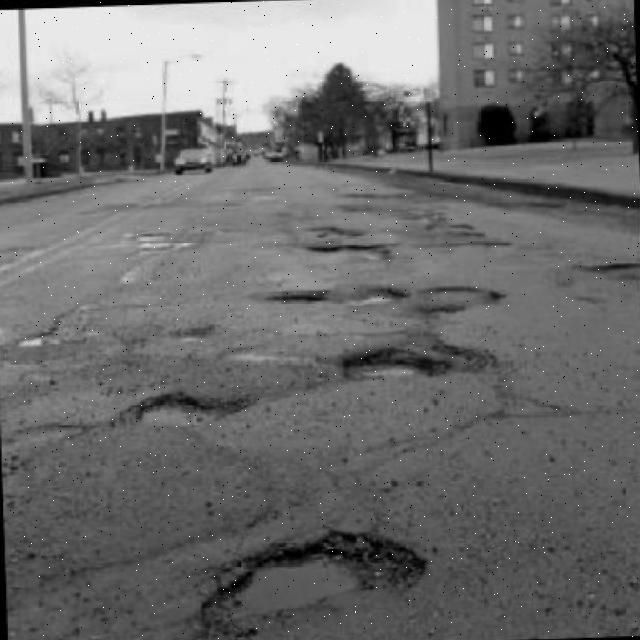pothole: (201, 530, 425, 635), (338, 339, 491, 384), (129, 393, 252, 427)
